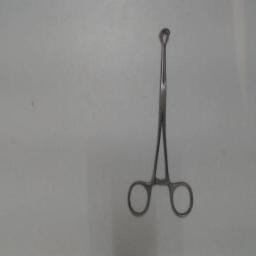Babcock Tissue Forceps: (127, 24, 197, 220)
